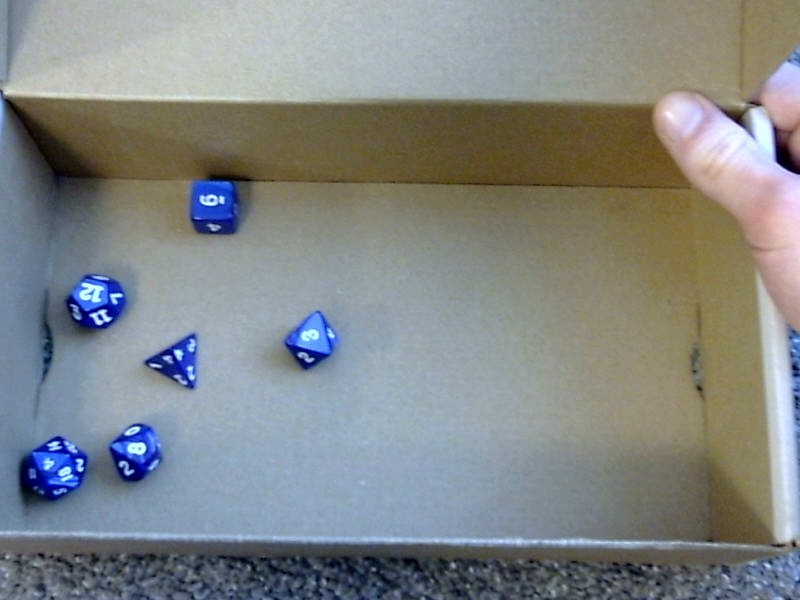d10 8: (107, 421, 162, 488)
d12 12: (64, 265, 125, 333)
d20 4: (17, 431, 89, 504)
d4 4: (141, 328, 201, 391)
d6 6: (187, 173, 239, 236)
d8 3: (284, 308, 340, 372)
